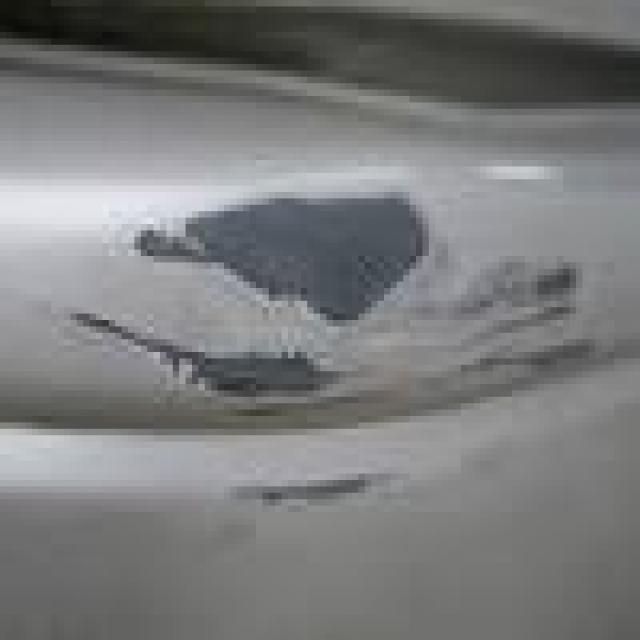minor: (159, 160, 583, 502)
